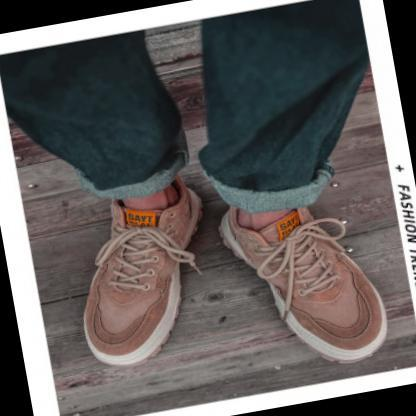safety-shoe: (217, 185, 409, 395), (66, 190, 224, 403)
